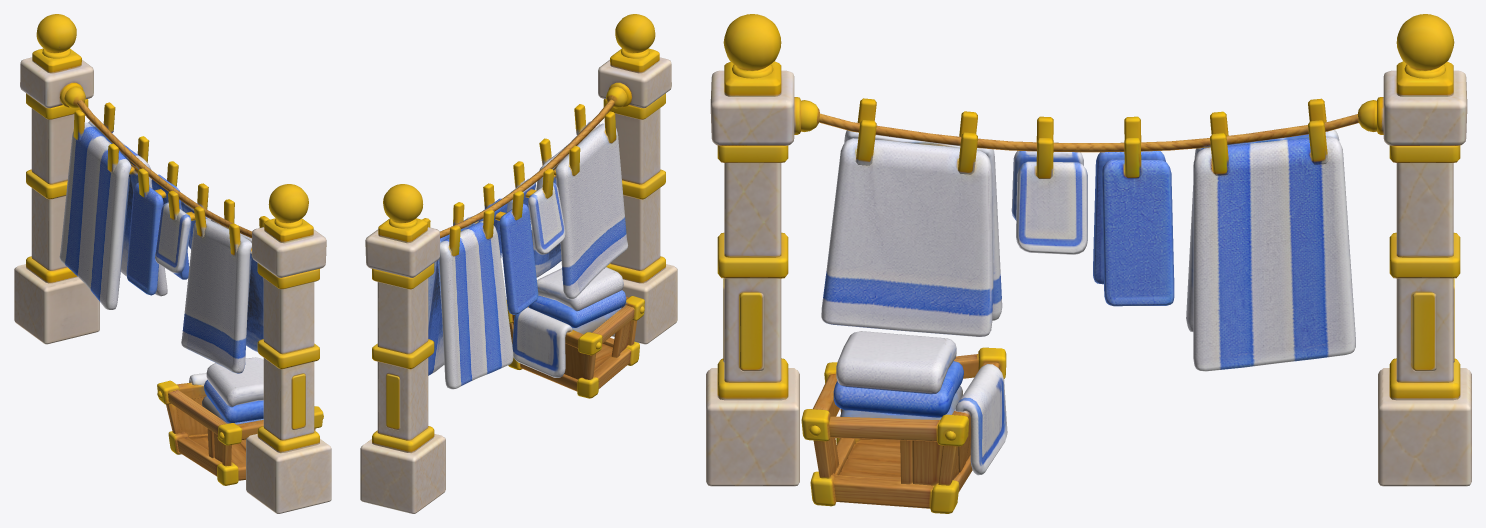
File: HaloReasonHQ_Clothesline_SM_tex4k_pbr_src.fbx
3 views of the same model, side by side, from view 1: azimuth 30°, elevation 25°; view 2: azimuth 150°, elevation 25°; view 3: azimuth 270°, elevation 25° (orthographic). The views are drawn at different scales.
Parts seen in each view (by area): view 1: e88ab85d_bb92_42db_b49a_34558b0ad680; view 2: e88ab85d_bb92_42db_b49a_34558b0ad680; view 3: e88ab85d_bb92_42db_b49a_34558b0ad680.
Part boxes in pixels (x1,y1,x2,y2): e88ab85d_bb92_42db_b49a_34558b0ad680: (14, 14, 331, 513); e88ab85d_bb92_42db_b49a_34558b0ad680: (360, 14, 677, 513); e88ab85d_bb92_42db_b49a_34558b0ad680: (706, 14, 1471, 513).
Size of the model in its own units: 0.2495 by 0.6577 by 0.9995.
1 material, 1 textured.
